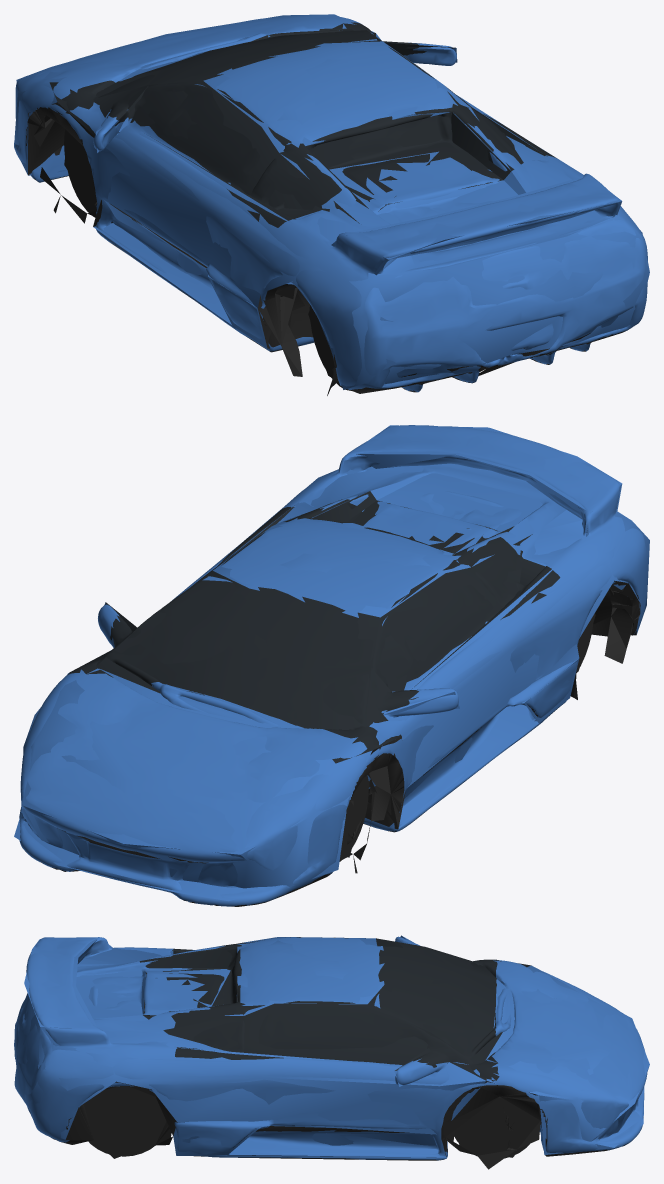
The model's file is lamborghini-murcielago.glb.
The picture shows the model from 3 angles, top to bottom: view 1: azimuth 30°, elevation 25°; view 2: azimuth 150°, elevation 25°; view 3: azimuth 270°, elevation 25°; orthographic projection. The views are drawn at different scales.
Parts seen in each view (by area): view 1: body, far; view 2: body, far; view 3: body, far.
Boxes of the visible parts, x1,y1,x2,y2 form: body: (14,15,647,395); far: (14,14,649,389); body: (19,425,647,906); far: (14,425,649,901); body: (14,936,647,1160); far: (14,935,649,1169).
Size of the model in its own units: 2.4 by 1.24 by 4.65.
